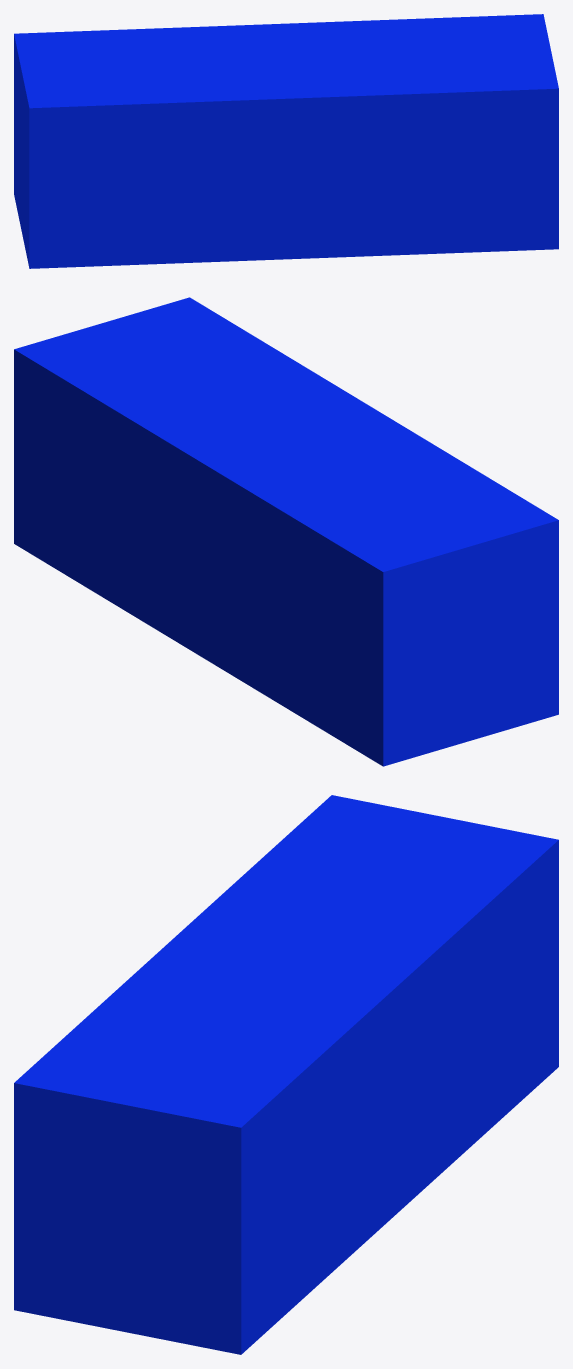
The model's file is BlueCuboid3-0622.FBX.
3 views of the same model, one above another, from view 1: azimuth 30°, elevation 25°; view 2: azimuth 150°, elevation 25°; view 3: azimuth 270°, elevation 25° (orthographic). The views are drawn at different scales.
Visible parts, largest first — view 1: BlueCuboid3; view 2: BlueCuboid3; view 3: BlueCuboid3.
Part boxes in pixels (x1=…): BlueCuboid3: x1=14, y1=14, x2=558, y2=268; BlueCuboid3: x1=14, y1=297, x2=558, y2=766; BlueCuboid3: x1=14, y1=795, x2=558, y2=1354.
Size of the model in its own units: 15.71 by 5 by 10.87.
